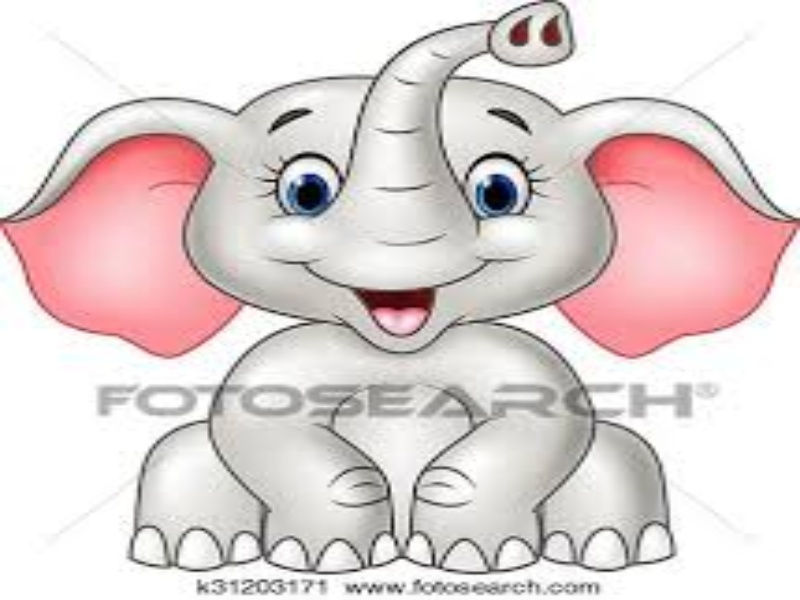elephant: (131, 59, 692, 531)
